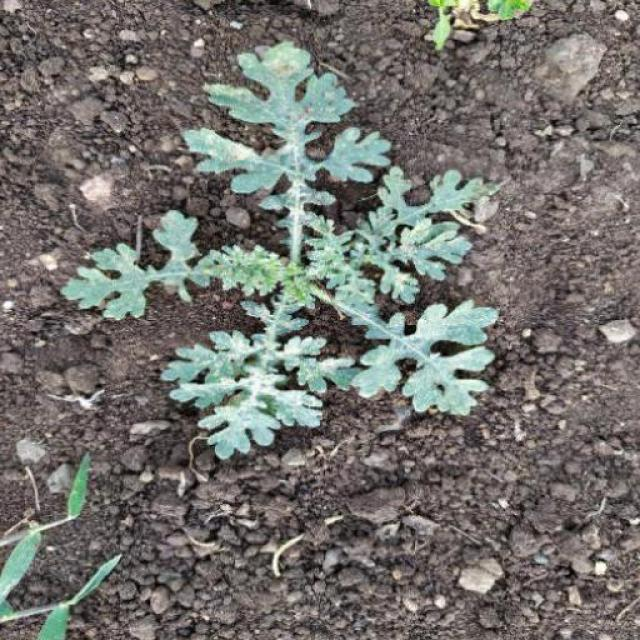weed: (28, 40, 498, 459)
